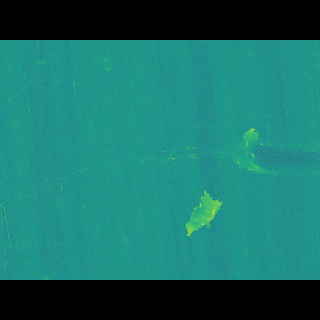Loch: (135, 135, 320, 173), (179, 180, 227, 219)
